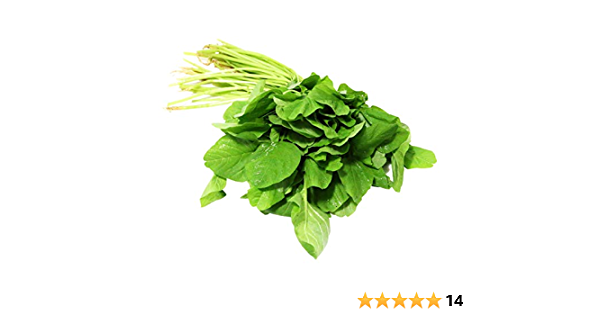Bayam: (137, 39, 481, 257)
